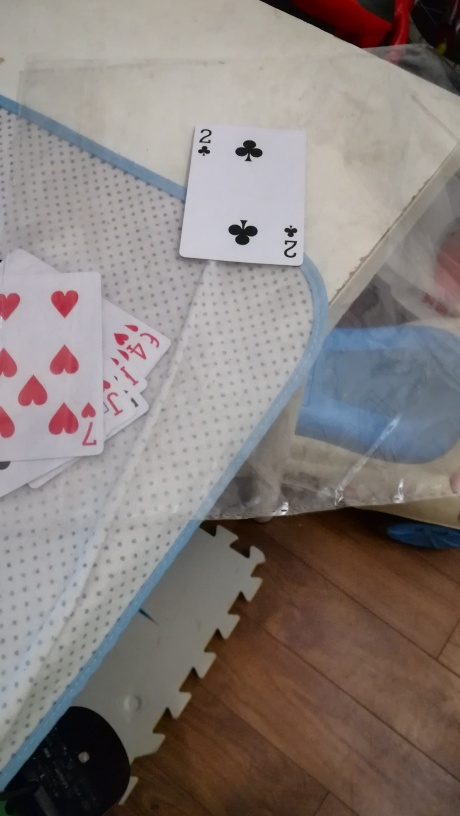mh 2: (186, 125, 304, 268)
